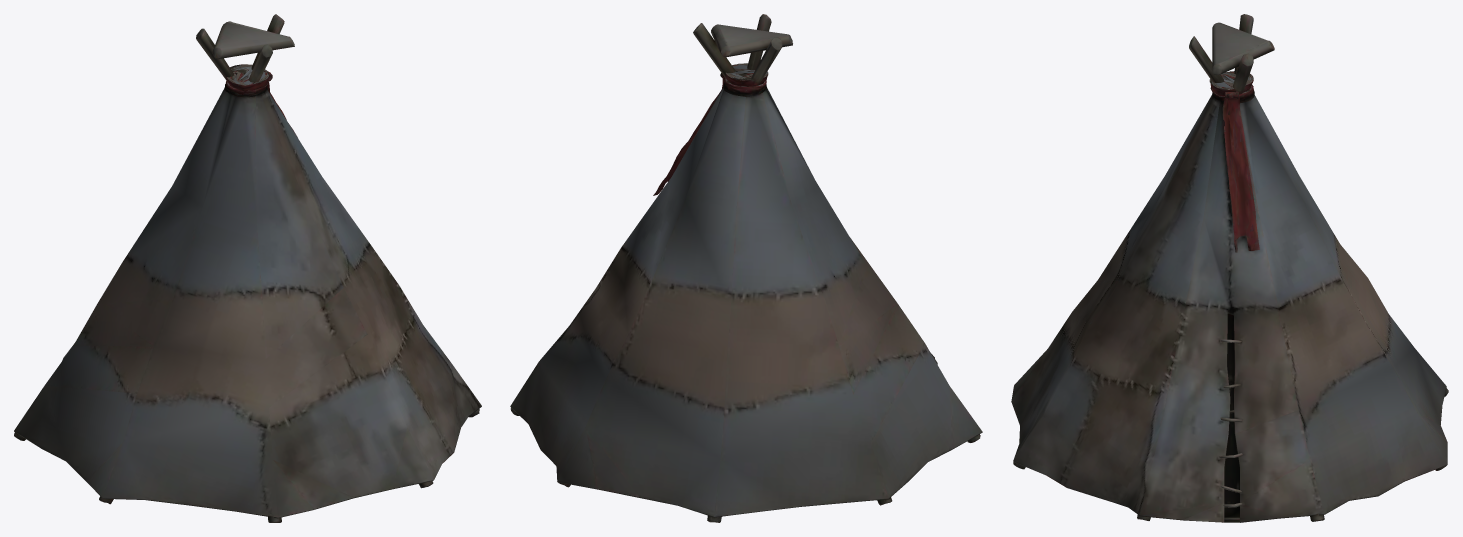
Rendered from forest_tent.glb.
3 renders of one model, left to right at view 1: azimuth 30°, elevation 25°; view 2: azimuth 150°, elevation 25°; view 3: azimuth 270°, elevation 25°, orthographic.
Visible parts, largest first — view 1: model; view 2: model; view 3: model.
Part boxes in pixels (x1,y1,x2,y2): model: (14, 14, 481, 522); model: (510, 14, 982, 522); model: (1011, 14, 1448, 522).
Size of the model in its own units: 0.9922 by 1 by 0.9883.
Materials: 1 (1 with a texture image).
